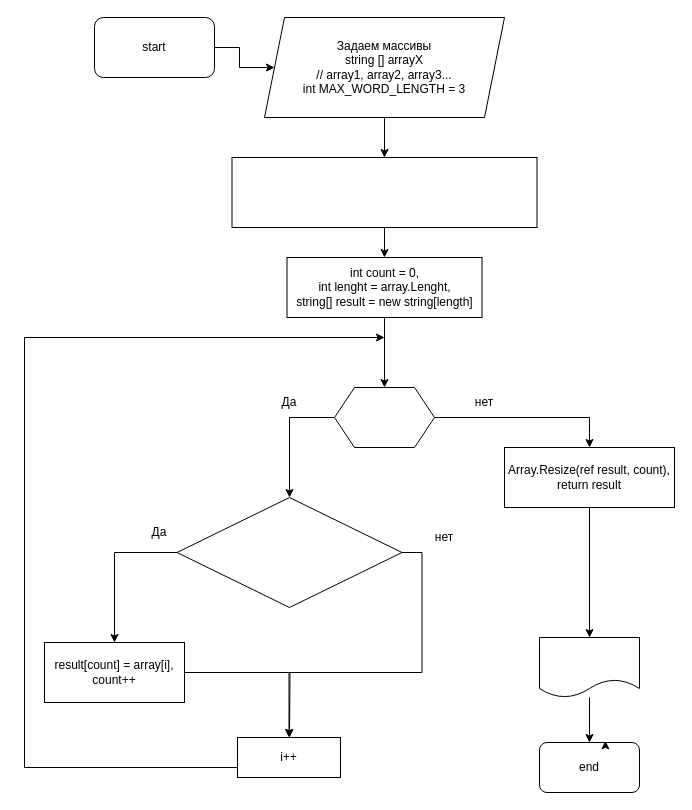
Some shapes in this 692 by 810 pixel diagram are drawn without their labels. The shapes that lost their labels are listed below. From the top down, each one's centre as x and y in pixels, then its label:
At point 384,192: "Создаем метод поиска длины элемента: string[] GetShortWordsArray(string[] array)".
At point 384,417: "i < length".
At point 289,552: "array[i].Length <= MAX_WORD_LENGTH".
At point 589,667: "print task".
